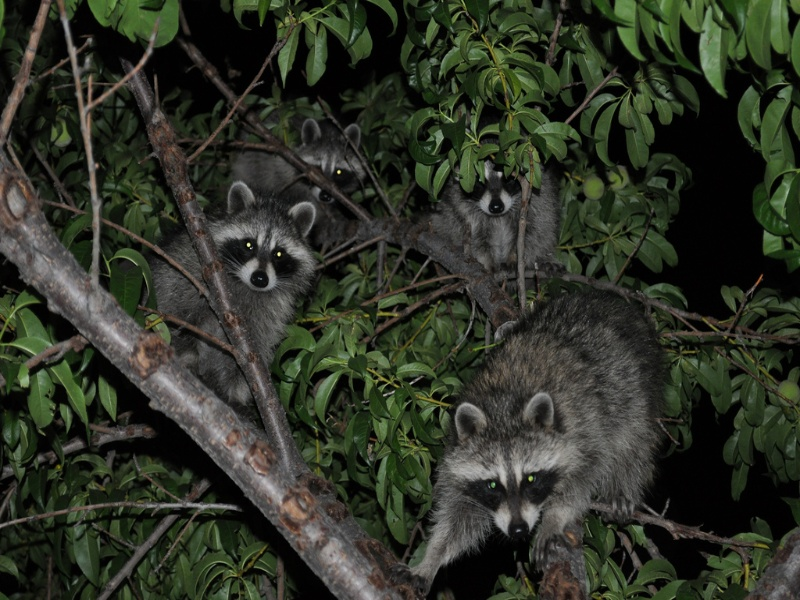raccoon: (406, 278, 676, 584), (153, 180, 321, 411), (416, 141, 561, 273), (221, 106, 369, 201)
